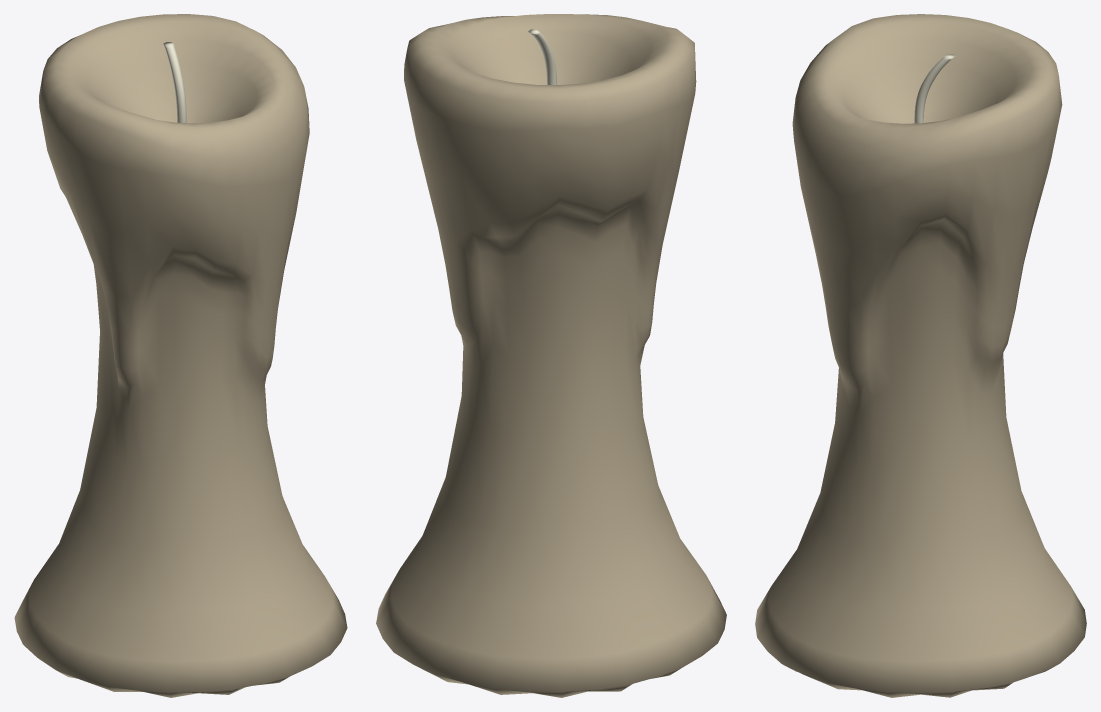
Rendered from Candle.fbx.
3 renders of one model, left to right at view 1: azimuth 30°, elevation 25°; view 2: azimuth 150°, elevation 25°; view 3: azimuth 270°, elevation 25°, orthographic. The views are drawn at different scales.
Parts seen in each view (by area): view 1: NurbsPath.002; view 2: NurbsPath.002; view 3: NurbsPath.002.
Part boxes in pixels (x1=…): NurbsPath.002: x1=14, y1=14, x2=347, y2=697; NurbsPath.002: x1=376, y1=14, x2=726, y2=697; NurbsPath.002: x1=755, y1=14, x2=1086, y2=697.
Bounding box in the file's own units: 12.85 × 25.26 × 12.86.
